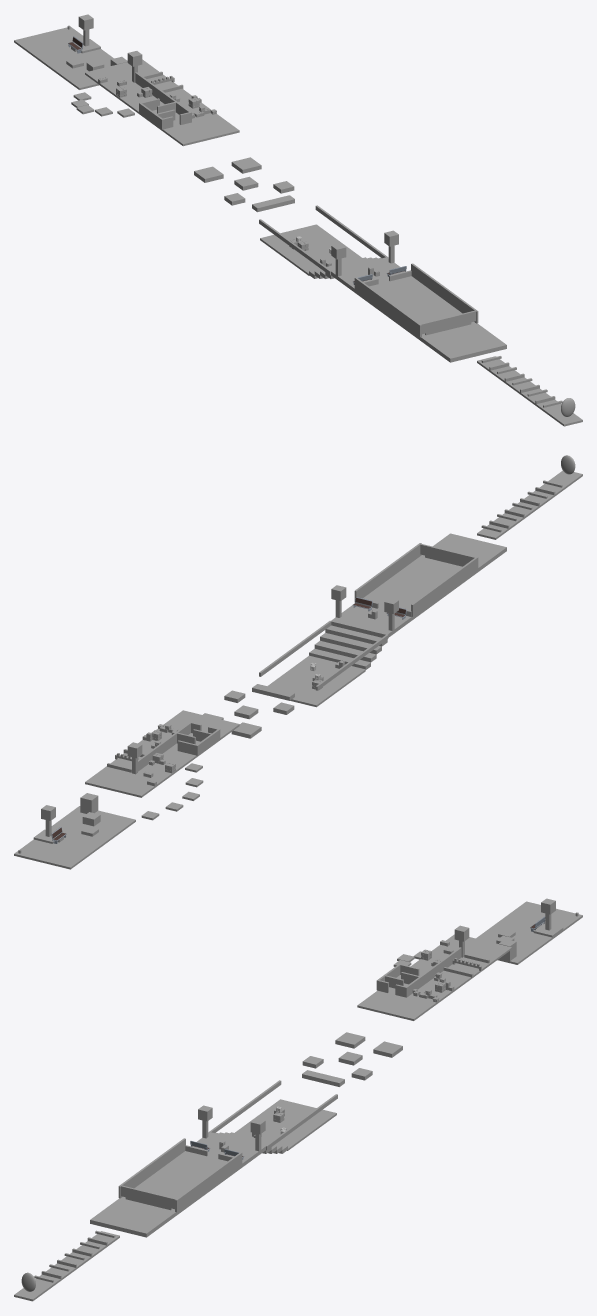
The model's file is Blockout_Test.fbx.
The picture shows the model from 3 angles, top to bottom: view 1: azimuth 30°, elevation 25°; view 2: azimuth 150°, elevation 25°; view 3: azimuth 330°, elevation 25°; orthographic projection.
Parts seen in each view (by area): view 1: pCube48, pCube10, pCube2, pCube42, pCube63, pCube58, pCube57, pCube62, pCube18; view 2: pCube48, pCube10, pCube2, pCube42, pCube63, pCube58, pCube57, pCube62, pCube18, pCube45, pCube46; view 3: pCube48, pCube10, pCube2, pCube42, pCube63, pCube57, pCube58, pCube18, pCube62.
Boxes of the visible parts, bbox=[...] form: pCube48: bbox=[331, 257, 506, 362]; pCube10: bbox=[85, 59, 239, 146]; pCube2: bbox=[14, 26, 113, 89]; pCube42: bbox=[260, 224, 361, 275]; pCube63: bbox=[477, 356, 582, 426]; pCube58: bbox=[354, 277, 421, 337]; pCube57: bbox=[411, 263, 478, 323]; pCube62: bbox=[421, 310, 475, 334]; pCube18: bbox=[135, 72, 191, 122]; pCube48: bbox=[331, 533, 506, 637]; pCube10: bbox=[85, 710, 239, 797]; pCube2: bbox=[14, 806, 135, 869]; pCube42: bbox=[267, 655, 365, 707]; pCube63: bbox=[477, 470, 582, 539]; pCube58: bbox=[411, 556, 478, 616]; pCube57: bbox=[354, 543, 421, 602]; pCube62: bbox=[420, 544, 475, 565]; pCube18: bbox=[138, 722, 191, 771]; pCube45: bbox=[314, 640, 376, 662]; pCube46: bbox=[320, 633, 381, 654]; pCube48: bbox=[90, 1132, 266, 1237]; pCube10: bbox=[357, 934, 511, 1020]; pCube2: bbox=[476, 901, 582, 964]; pCube42: bbox=[235, 1099, 336, 1150]; pCube63: bbox=[14, 1231, 119, 1301]; pCube57: bbox=[175, 1152, 242, 1212]; pCube58: bbox=[118, 1138, 185, 1198]; pCube18: bbox=[405, 947, 461, 997]; pCube62: bbox=[121, 1185, 176, 1209].
Bounding box in the file's own units: 47.43 × 34 × 487.
